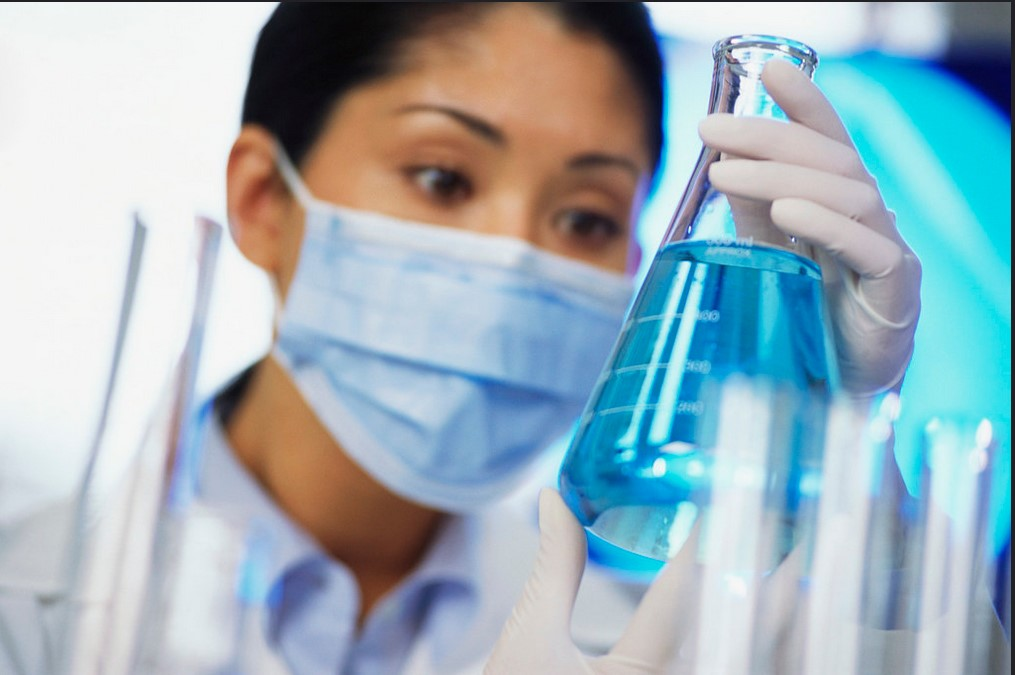face_with_mask: (238, 0, 707, 490)
